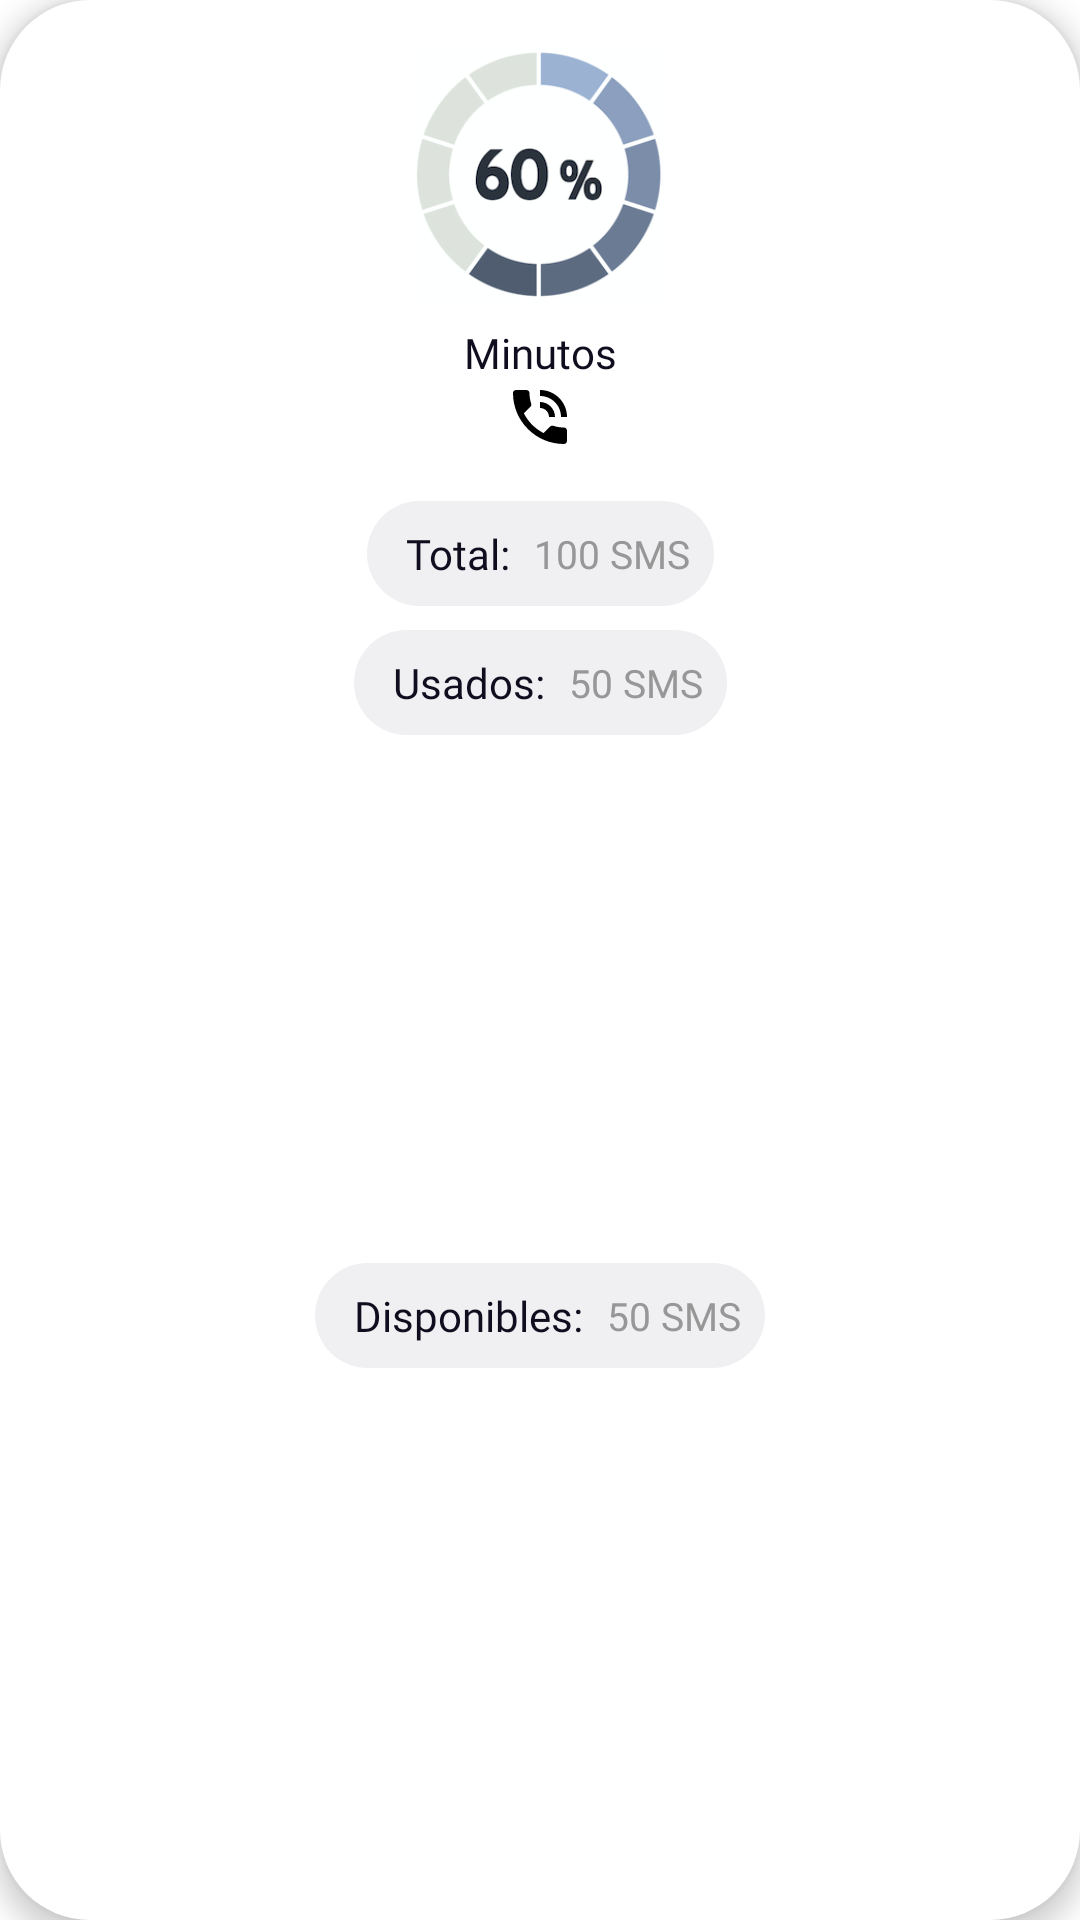

Locate icon controls on the screen. Image size 1080x1920, boxes as BBox(x1, y1, x2, y2).
indicator: BBox(417, 52, 661, 297)
talking phone: BBox(513, 390, 567, 444)
